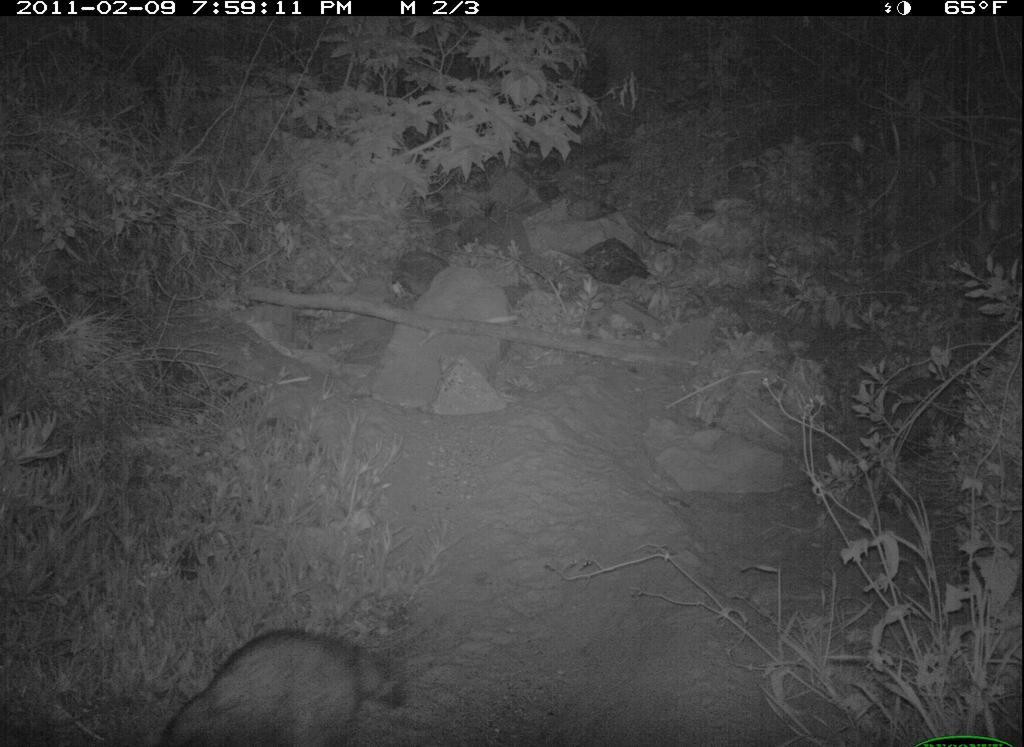raccoon: (149, 625, 414, 747)
